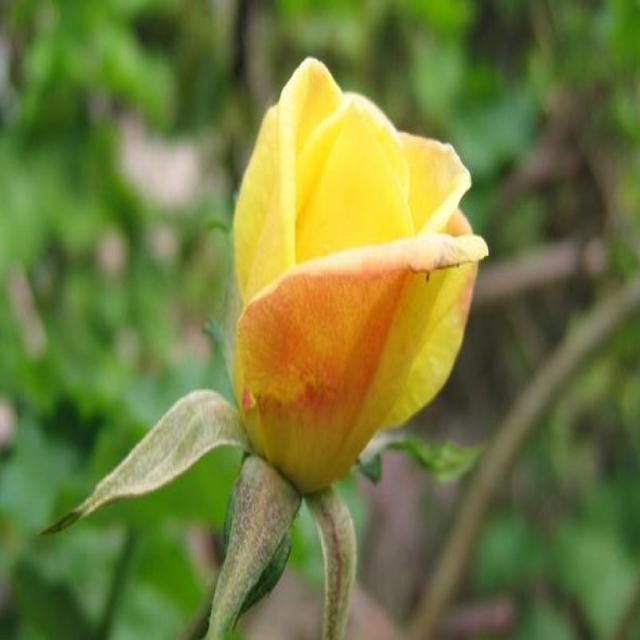rose: (219, 66, 489, 518)
